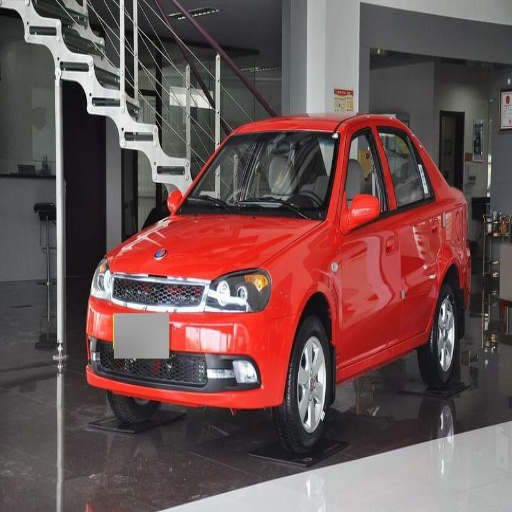back_left_door: (375, 123, 443, 332)
front_bumper: (119, 306, 297, 406), (116, 272, 209, 352)
front_glass: (178, 132, 339, 219)
front_left_door: (340, 123, 402, 359)
trunk: (97, 322, 164, 369), (440, 202, 470, 281)
